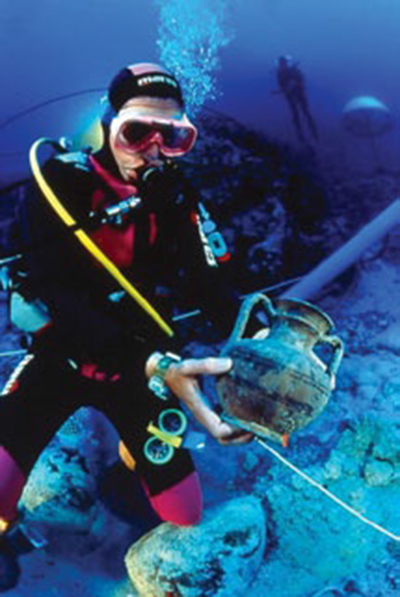amphora: (214, 285, 344, 450)
